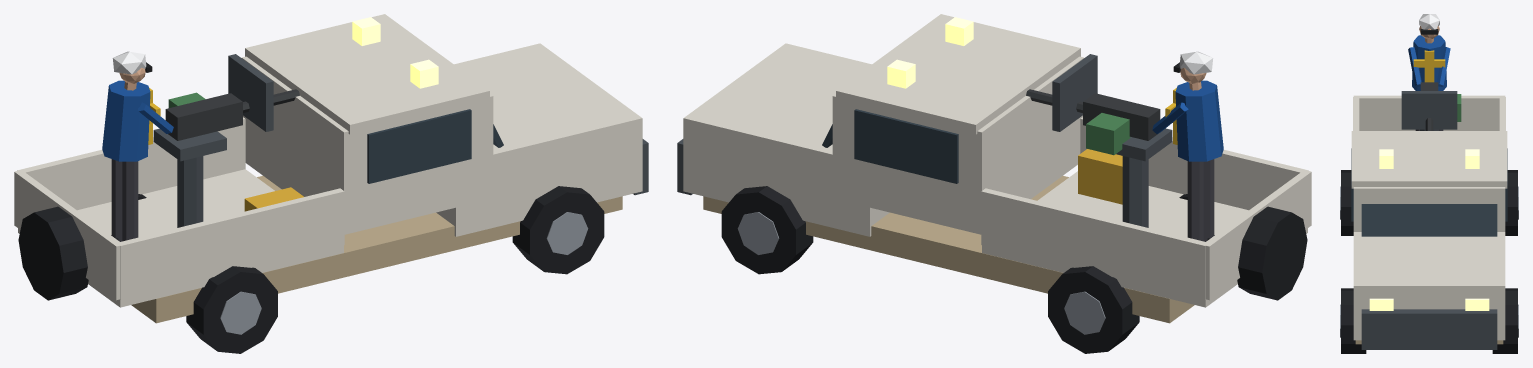
Rendered from flakbil.glb.
The picture shows the model from 3 angles, left to right: view 1: azimuth 30°, elevation 25°; view 2: azimuth 150°, elevation 25°; view 3: azimuth 270°, elevation 25°; orthographic projection. The views are drawn at different scales.
Visible parts, largest first — view 1: Kaross, Torn, Pipa; view 2: Kaross, Torn, Pipa; view 3: Kaross, Pipa, Torn.
Part boxes in pixels (x1=…): Kaross: x1=14, y1=14, x2=648, y2=353; Torn: x1=102, y1=51, x2=226, y2=241; Pipa: x1=165, y1=54, x2=299, y2=140; Kaross: x1=677, y1=14, x2=1311, y2=353; Torn: x1=1116, y1=51, x2=1223, y2=241; Pipa: x1=1026, y1=54, x2=1160, y2=155; Kaross: x1=1340, y1=95, x2=1518, y2=353; Pipa: x1=1401, y1=82, x2=1461, y2=130; Torn: x1=1408, y1=14, x2=1450, y2=130.
Bounding box in the file's own units: 6.03 × 2.78 × 2.24.
